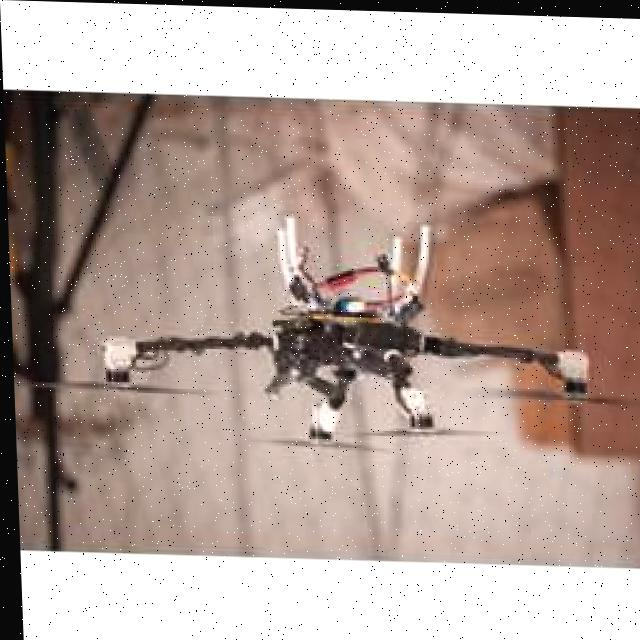drone: (39, 211, 640, 481)
